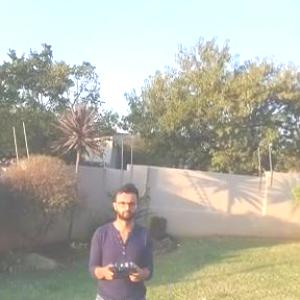follow: (85, 179, 156, 299)
